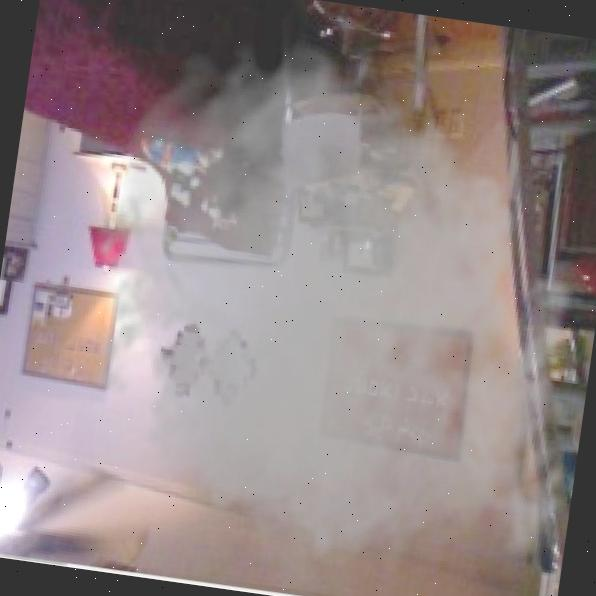smoke: (43, 0, 596, 596)
